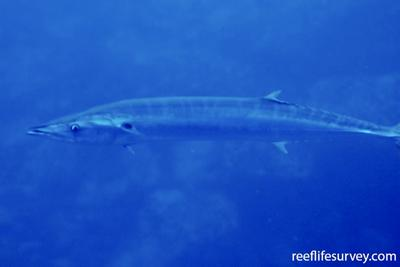Scombridae -Tunas-: (23, 89, 398, 156)
